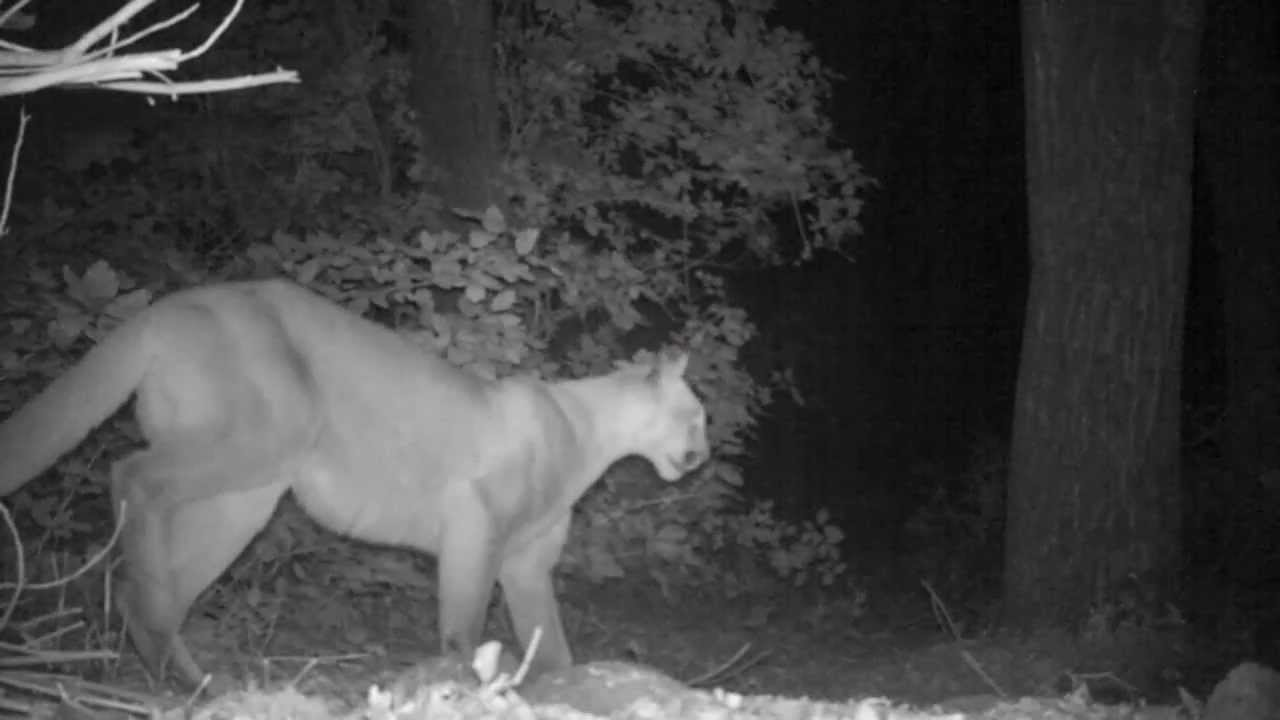mountain lion: (22, 234, 740, 696)
